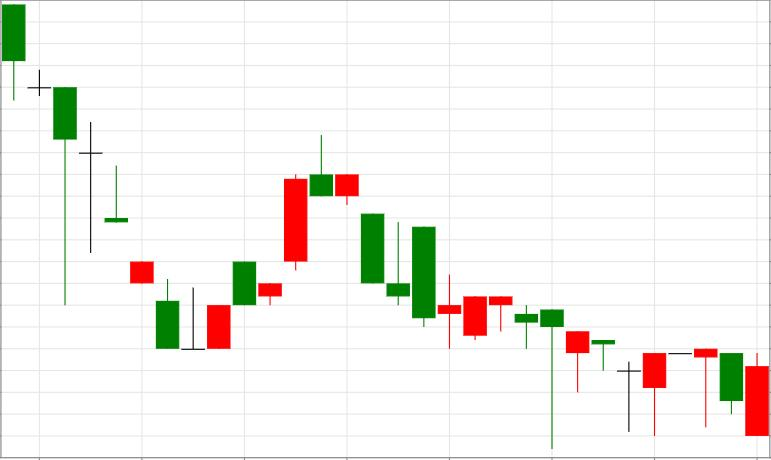morning_star_rise: (2, 4, 230, 350)
